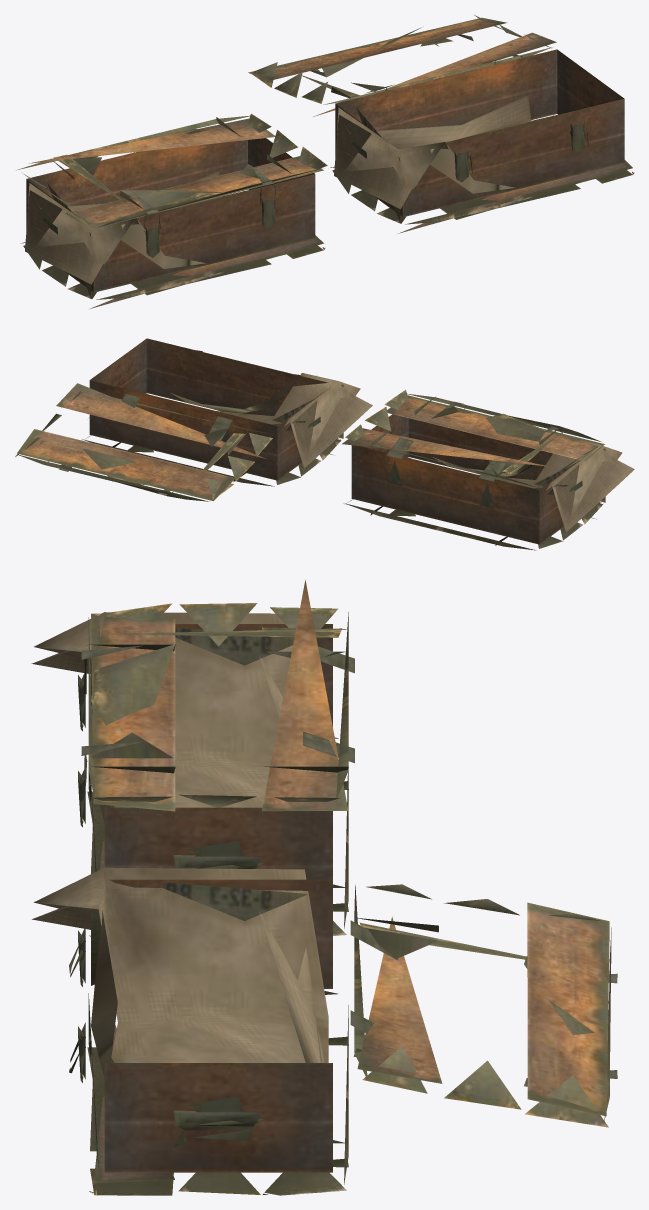
File: old_military_crate.glb
The picture shows the model from 3 angles, top to bottom: view 1: azimuth 30°, elevation 25°; view 2: azimuth 150°, elevation 25°; view 3: azimuth 270°, elevation 25°; orthographic projection. The views are drawn at different scales.
Parts seen in each view (by area): view 1: old_military_crate_a; view 2: old_military_crate_a; view 3: old_military_crate_a.
Part boxes in pixels (x1=…): old_military_crate_a: x1=16, y1=15, x2=634, y2=308; old_military_crate_a: x1=15, y1=338, x2=634, y2=550; old_military_crate_a: x1=31, y1=579, x2=617, y2=1195.
Size of the model in its own units: 1.84 by 0.324 by 0.9692.
1 material, 1 textured.
